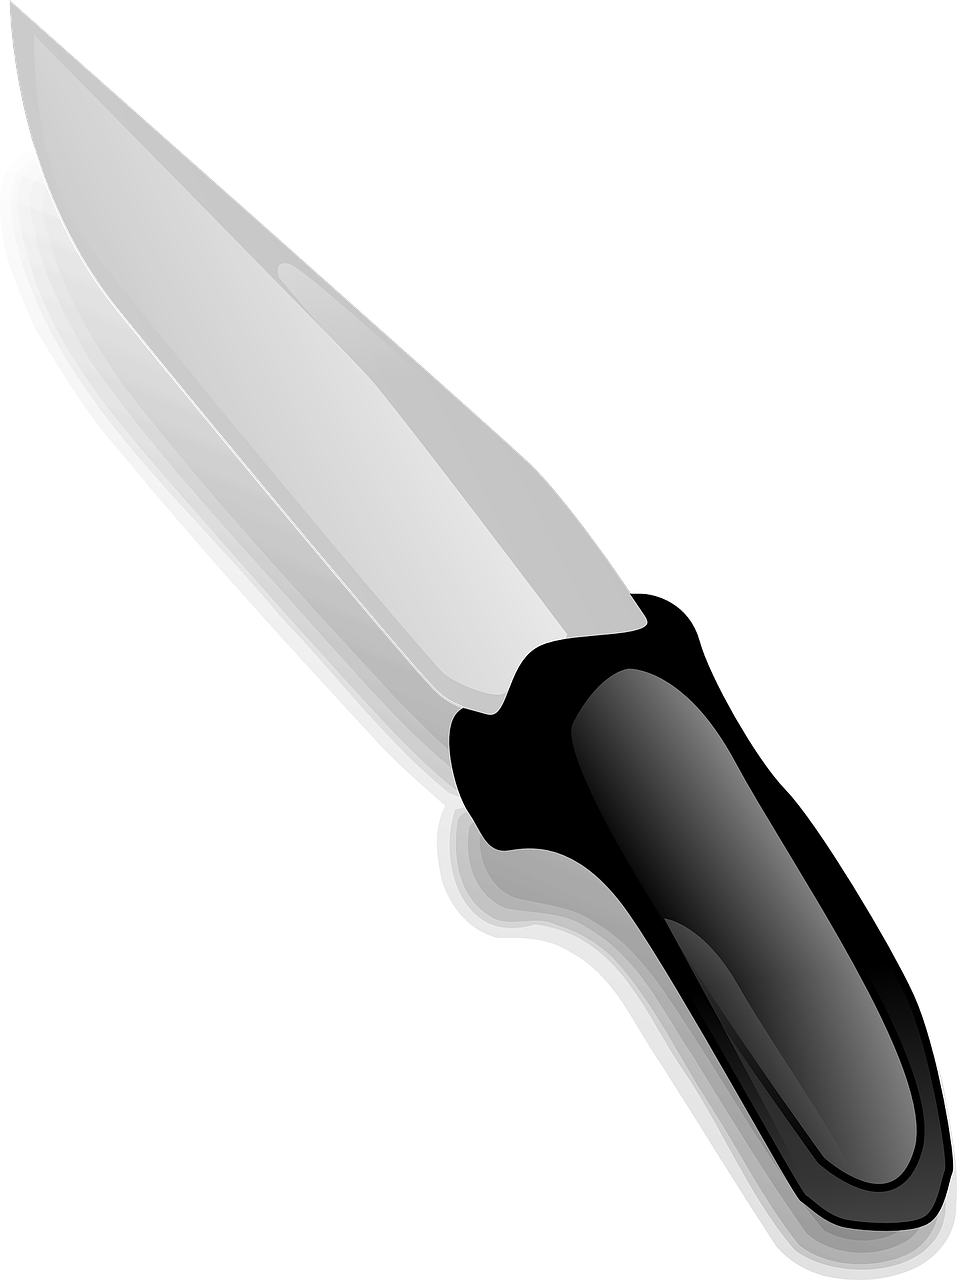knife: (8, 4, 957, 1248)
